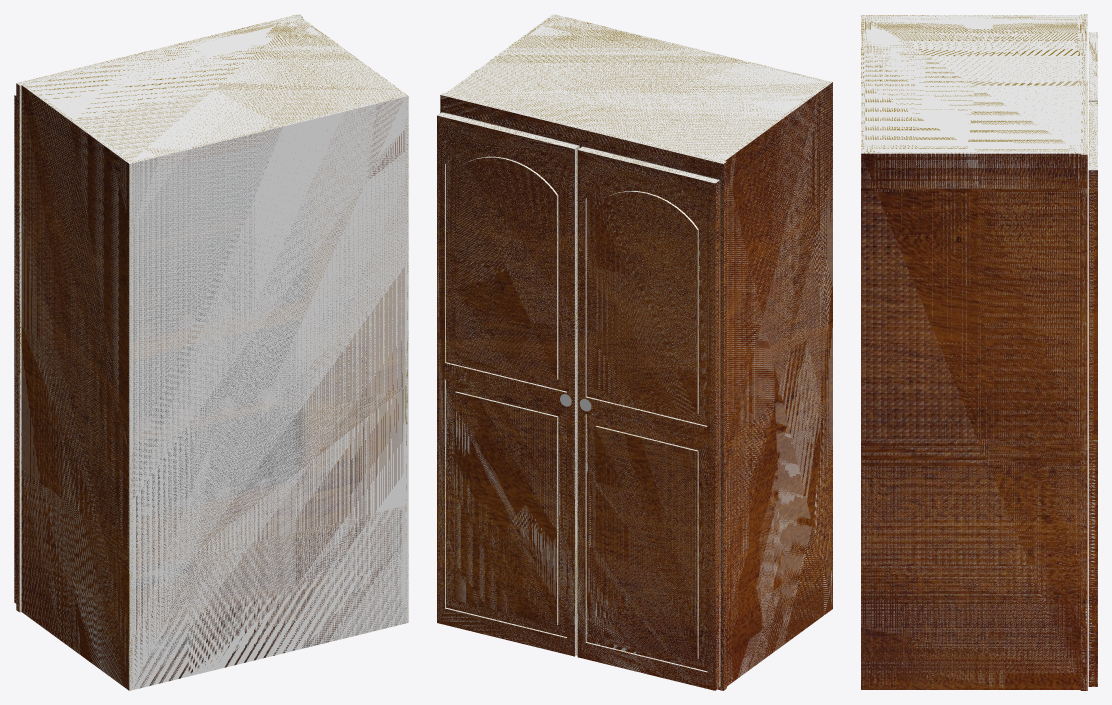
The picture shows the model from 3 angles, left to right: view 1: azimuth 30°, elevation 25°; view 2: azimuth 150°, elevation 25°; view 3: azimuth 270°, elevation 25°; orthographic projection.
Parts seen in each view (by area): view 1: mesh2_mesh2-geometry, mesh1_mesh1-geometry; view 2: mesh2_mesh2-geometry, mesh1_mesh1-geometry, mesh3_mesh3-geometry; view 3: mesh2_mesh2-geometry, mesh3_mesh3-geometry, mesh1_mesh1-geometry.
Boxes of the visible parts, x1,y1,x2,y2 form: mesh2_mesh2-geometry: (16,14,408,690); mesh1_mesh1-geometry: (14,94,16,603); mesh2_mesh2-geometry: (440,14,832,690); mesh1_mesh1-geometry: (577,146,719,690); mesh3_mesh3-geometry: (437,112,579,656); mesh2_mesh2-geometry: (861,14,1087,690); mesh3_mesh3-geometry: (1088,102,1097,686); mesh1_mesh1-geometry: (1088,32,1097,101).
Bounding box in the file's own units: 0.4629 × 0.8229 × 0.3295.
